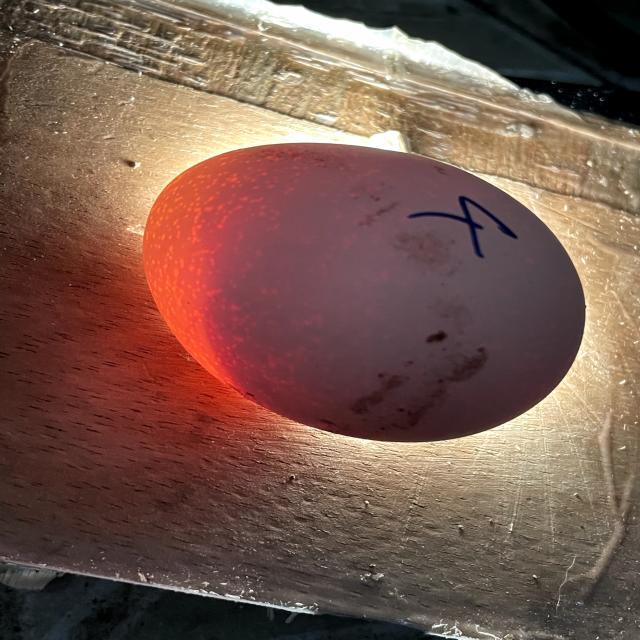fertile: (143, 144, 585, 441)
